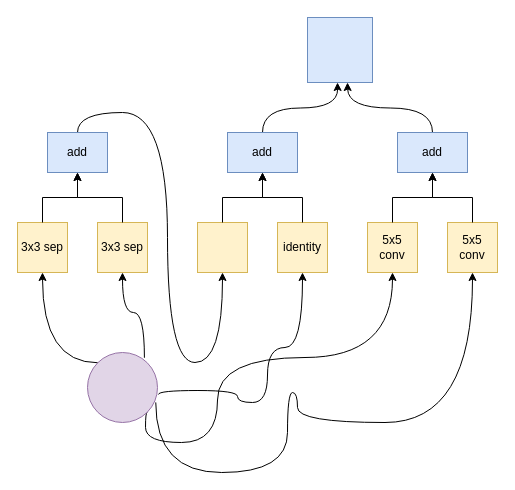
This 515x490 diagram has some shape labels left out. Each missing label, with the box of its shape:
5x5 sep: (196, 222, 248, 272)
concat: (306, 16, 372, 82)
Input: (86, 352, 158, 422)
